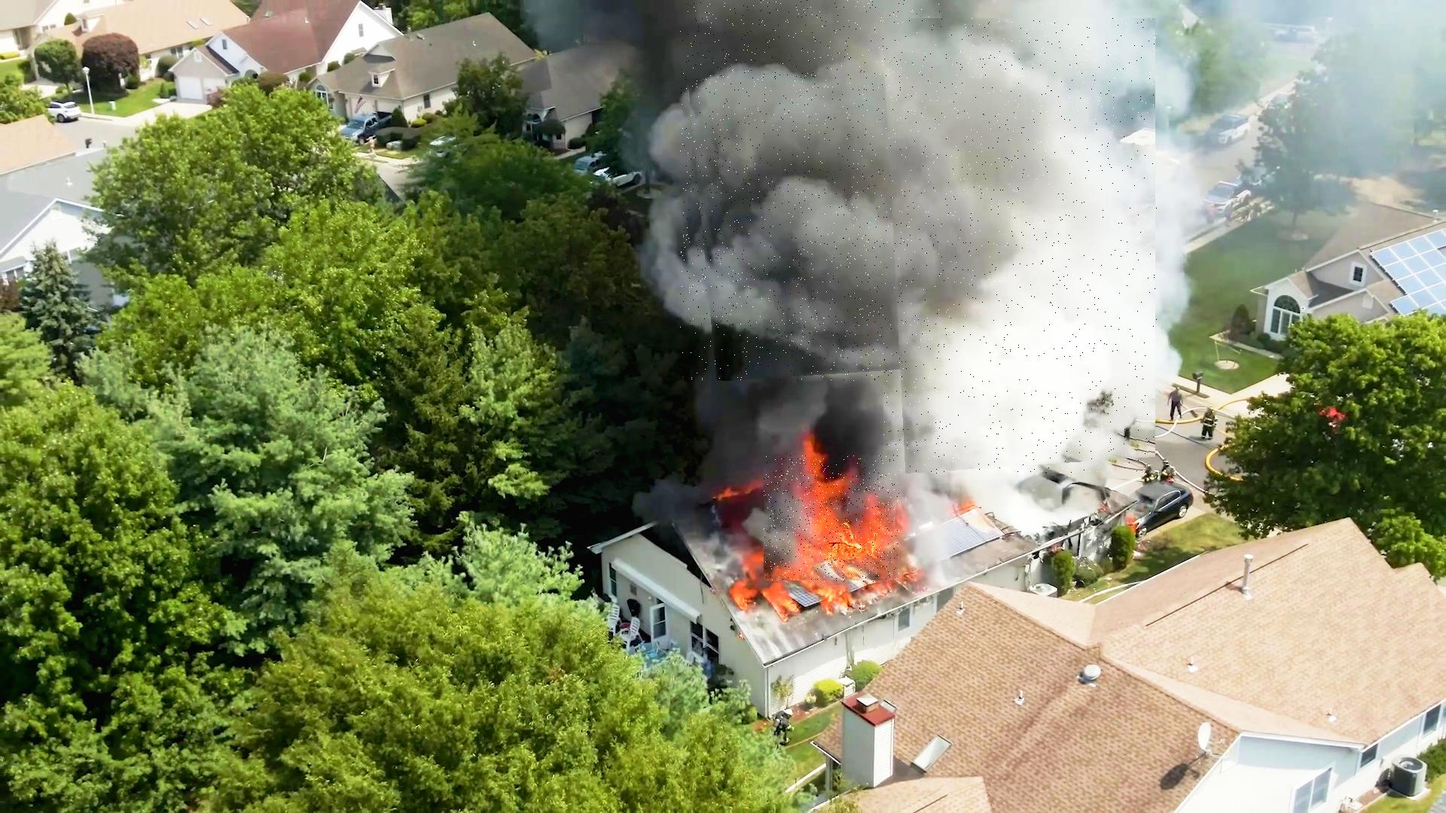fire: (764, 456, 901, 583)
smoke: (884, 18, 1157, 474), (680, 0, 941, 381)
